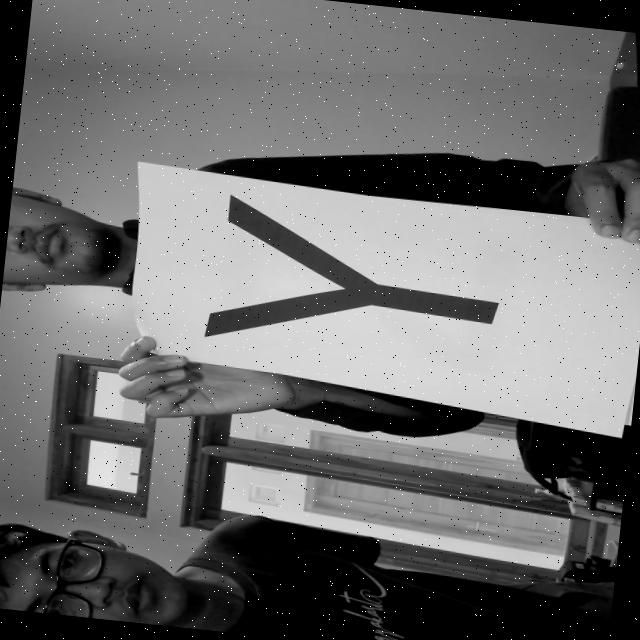y: (170, 182, 540, 378)
